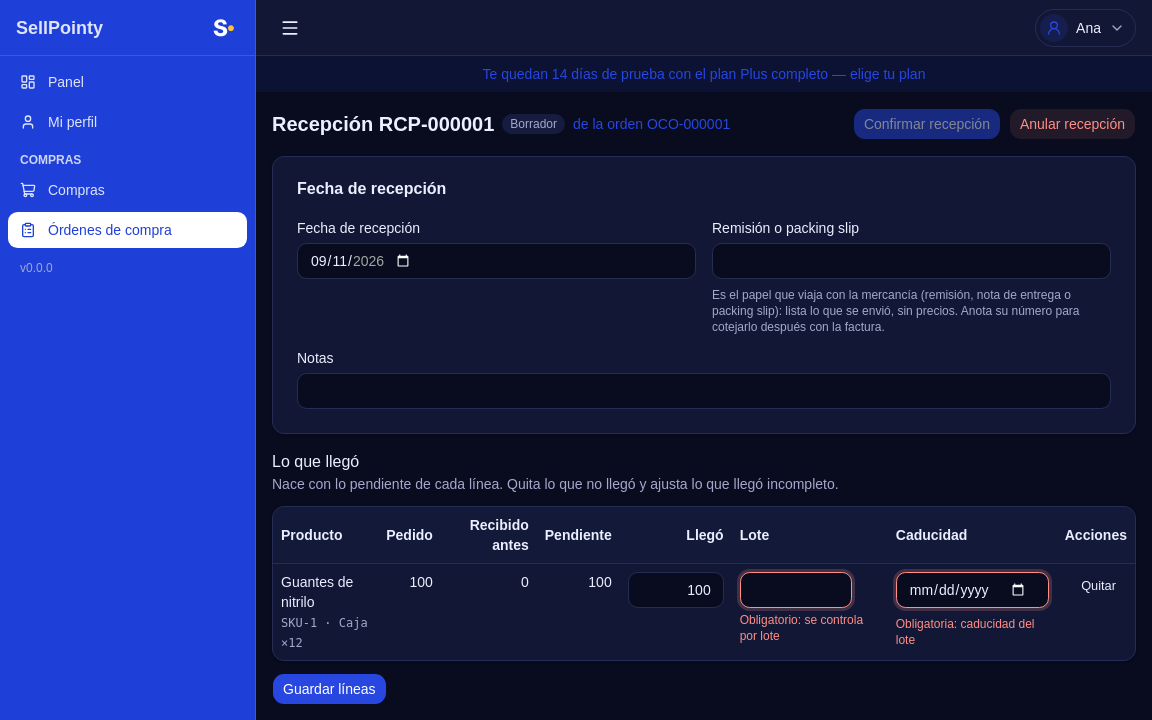
Test: Recepción de una orden (F9-PO-13) › confirmar guarda las líneas sucias ANTES de preguntar, y confirmada muestra el aviso verde
The image size is (1152, 720).
Type "hist-01" into the field named "Lote".
click(796, 590); type("hist-01")  # box top-left (740, 572), bottom-right (852, 608)
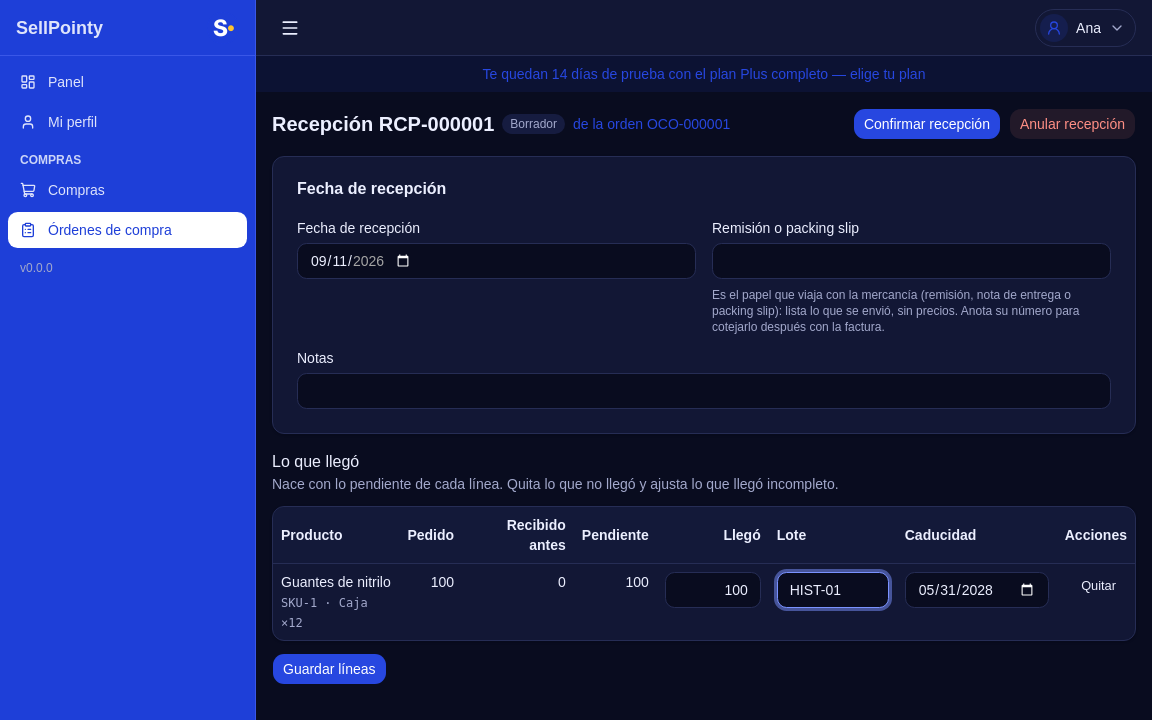
expect the date field named "Caducidad" holds "2028-05-31": met, box top-left (905, 572), bottom-right (1049, 608)
Click the button "Confirmar recepción".
click(927, 124)  # box top-left (853, 108), bottom-right (1001, 140)
(page scrolled)
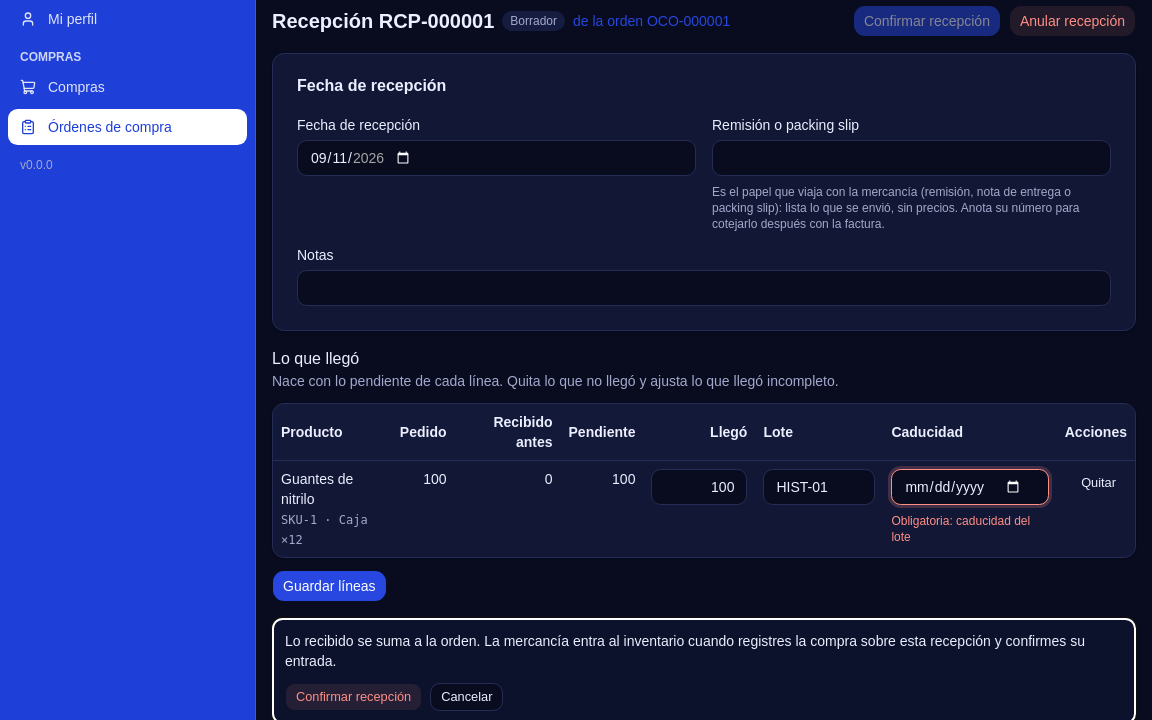
Click the 2nd button "Confirmar recepción".
click(354, 697)  # box top-left (285, 683), bottom-right (422, 711)
(page scrolled)
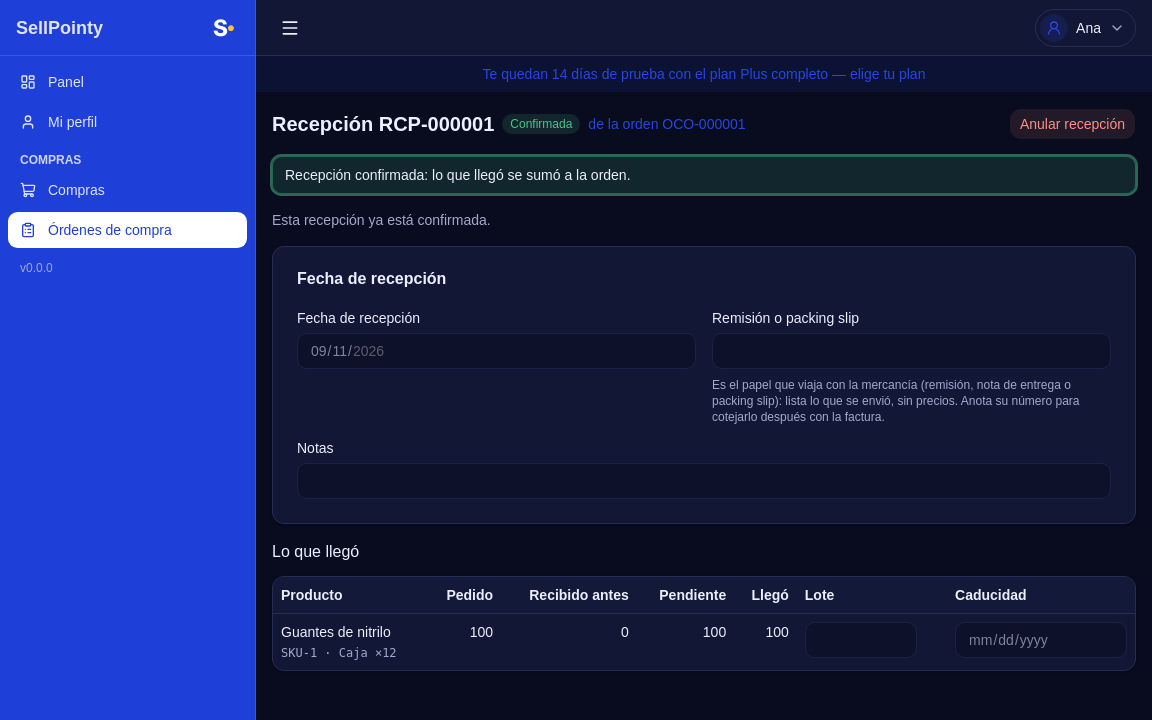
expect the message with test id "receipt-confirmed" shows "Recepción confirmada": met, box top-left (285, 167), bottom-right (630, 183)
